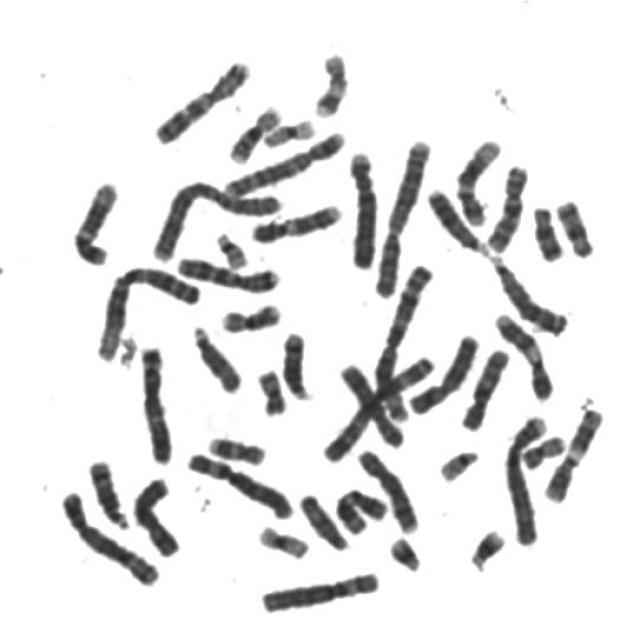A1: (90, 256, 206, 364), (372, 256, 438, 424)
A2: (145, 172, 290, 262), (369, 129, 437, 300)
A3: (317, 346, 441, 465), (133, 336, 178, 466)
B4: (500, 404, 553, 547), (343, 142, 384, 270)
B5: (53, 481, 165, 588), (218, 122, 350, 199)
C10: (456, 339, 515, 432), (481, 155, 534, 254)
C11: (539, 399, 609, 503), (329, 479, 394, 536)
C12: (450, 129, 506, 227), (67, 172, 124, 267)
C6: (180, 444, 300, 521), (254, 561, 386, 615)
C7: (148, 50, 256, 146), (171, 247, 285, 294)
C8: (352, 440, 424, 535), (334, 360, 409, 451)
C9: (489, 304, 559, 401), (246, 194, 346, 245)
D13: (486, 247, 574, 337), (422, 179, 491, 255)
D14: (82, 450, 134, 530), (277, 322, 317, 402)
D15: (186, 316, 248, 396), (294, 486, 354, 553)
E16: (224, 95, 286, 165), (216, 294, 286, 334)
E17: (307, 42, 353, 120), (203, 427, 271, 467)
E18: (550, 191, 600, 260), (527, 196, 568, 262)
F19: (252, 515, 315, 561), (258, 110, 321, 150)
F20: (516, 426, 570, 470), (252, 360, 292, 418)
G21: (463, 519, 512, 573), (383, 527, 427, 574)
G22: (434, 440, 484, 484), (210, 222, 254, 270)
X: (404, 324, 484, 416), (128, 468, 186, 559)
